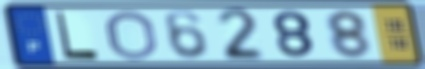2: (215, 6, 268, 64)
6: (162, 9, 210, 61)
8: (322, 8, 375, 60), (271, 10, 317, 60)
L: (54, 9, 102, 61)
O: (105, 9, 161, 62)
